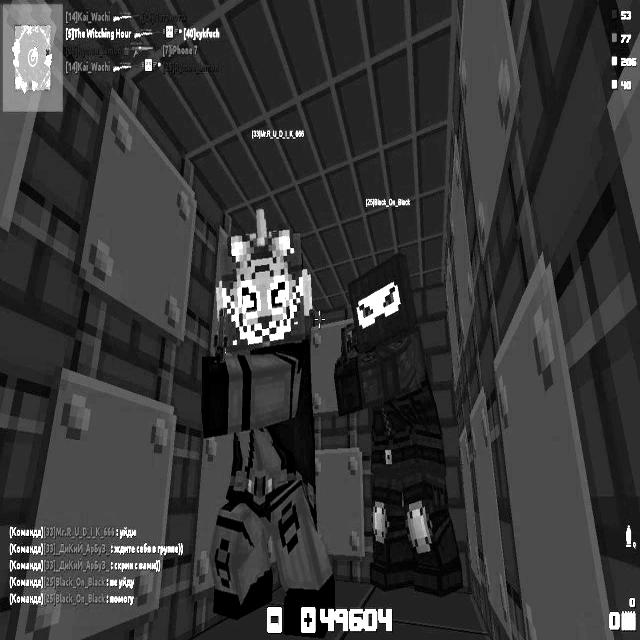Head: (216, 208, 306, 351), (353, 256, 415, 335)
Player: (201, 207, 335, 624), (335, 245, 464, 597)
